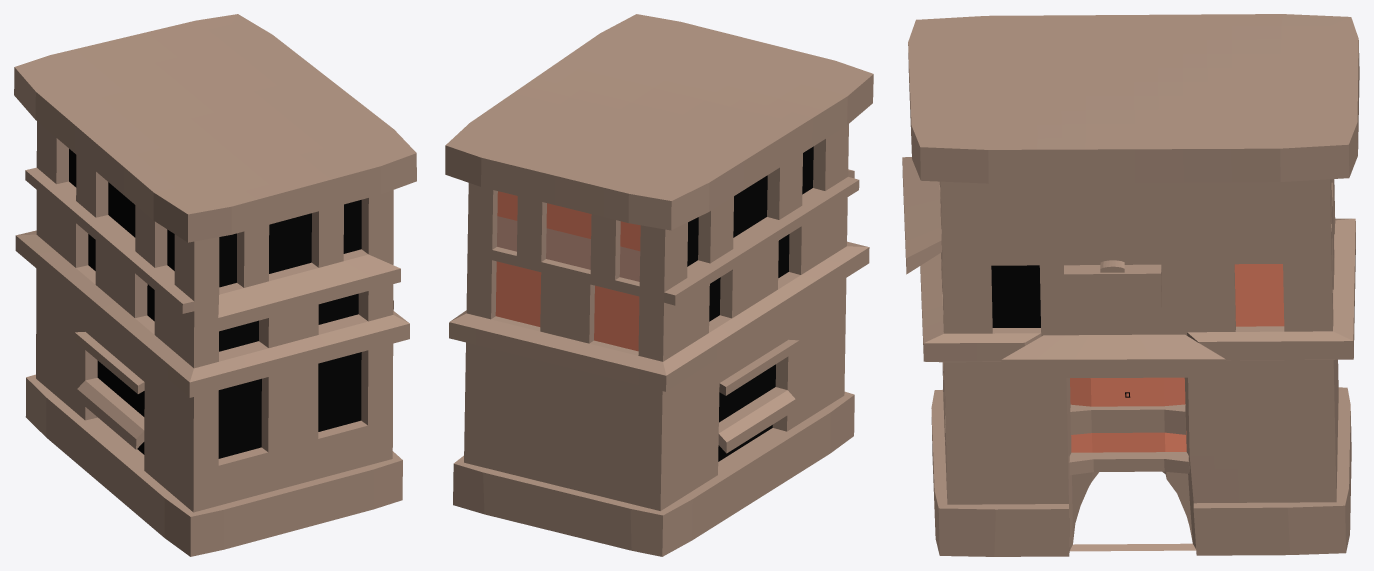
Rendered from Building_Three.fbx.
3 views of the same model, side by side, from view 1: azimuth 30°, elevation 25°; view 2: azimuth 150°, elevation 25°; view 3: azimuth 270°, elevation 25° (orthographic). The views are drawn at different scales.
Parts seen in each view (by area): view 1: Plane.005; view 2: Plane.005; view 3: Plane.005.
Boxes of the visible parts, x1,y1,x2,y2 form: Plane.005: [14, 14, 416, 556]; Plane.005: [445, 14, 873, 556]; Plane.005: [902, 14, 1359, 556].
Size of the model in its own units: 1893 by 2622 by 2578.
